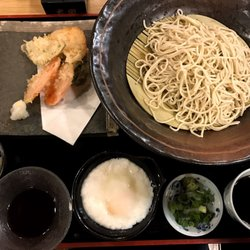Soba: (141, 12, 250, 135)
